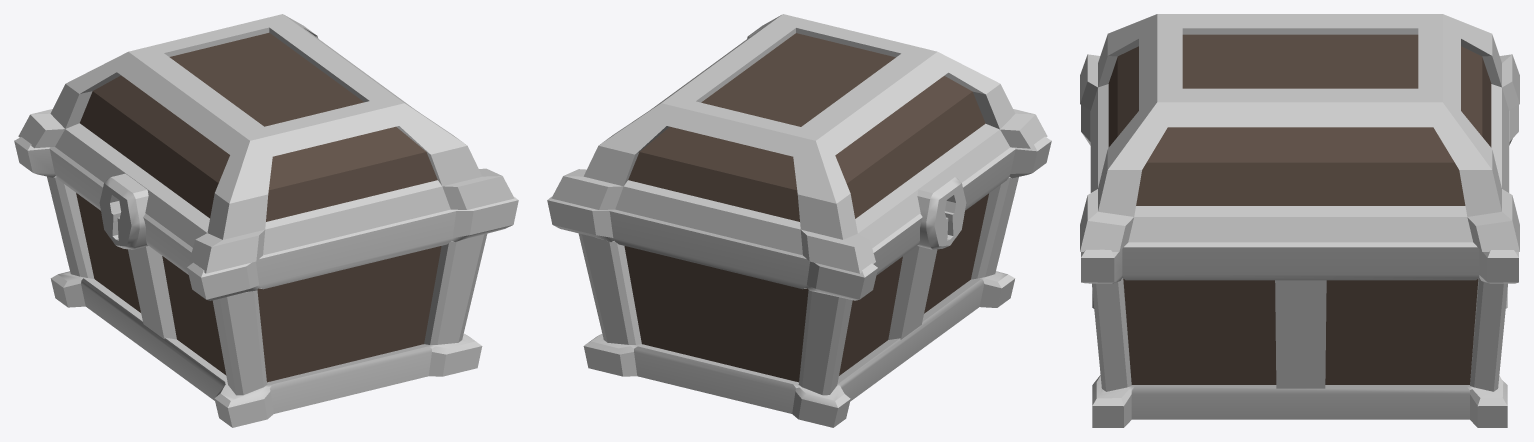
The model's file is darkClosedChest.fbx.
3 renders of one model, left to right at view 1: azimuth 30°, elevation 25°; view 2: azimuth 150°, elevation 25°; view 3: azimuth 270°, elevation 25°, orthographic. The views are drawn at different scales.
Parts seen in each view (by area): view 1: Frame, LidFrame, LidSides, Sides1, Lock; view 2: Frame, LidFrame, LidSides, Sides1, Lock; view 3: LidFrame, Frame, LidSides, Sides1.
Part boxes in pixels (x1=…): Frame: x1=14, y1=137, x2=518, y2=427; LidFrame: x1=18, y1=14, x2=514, y2=273; LidSides: x1=80, y1=32, x2=437, y2=221; Sides1: x1=76, y1=193, x2=441, y2=382; Lock: x1=99, y1=173, x2=148, y2=249; Frame: x1=547, y1=136, x2=1051, y2=427; LidFrame: x1=551, y1=14, x2=1047, y2=273; LidSides: x1=628, y1=33, x2=985, y2=221; Sides1: x1=624, y1=193, x2=988, y2=382; Lock: x1=917, y1=173, x2=966, y2=249; LidFrame: x1=1080, y1=14, x2=1519, y2=251; Frame: x1=1081, y1=105, x2=1518, y2=427; LidSides: x1=1108, y1=34, x2=1491, y2=205; Sides1: x1=1123, y1=279, x2=1478, y2=384.
Bounding box in the file's own units: 41.8 × 32.16 × 42.77.
